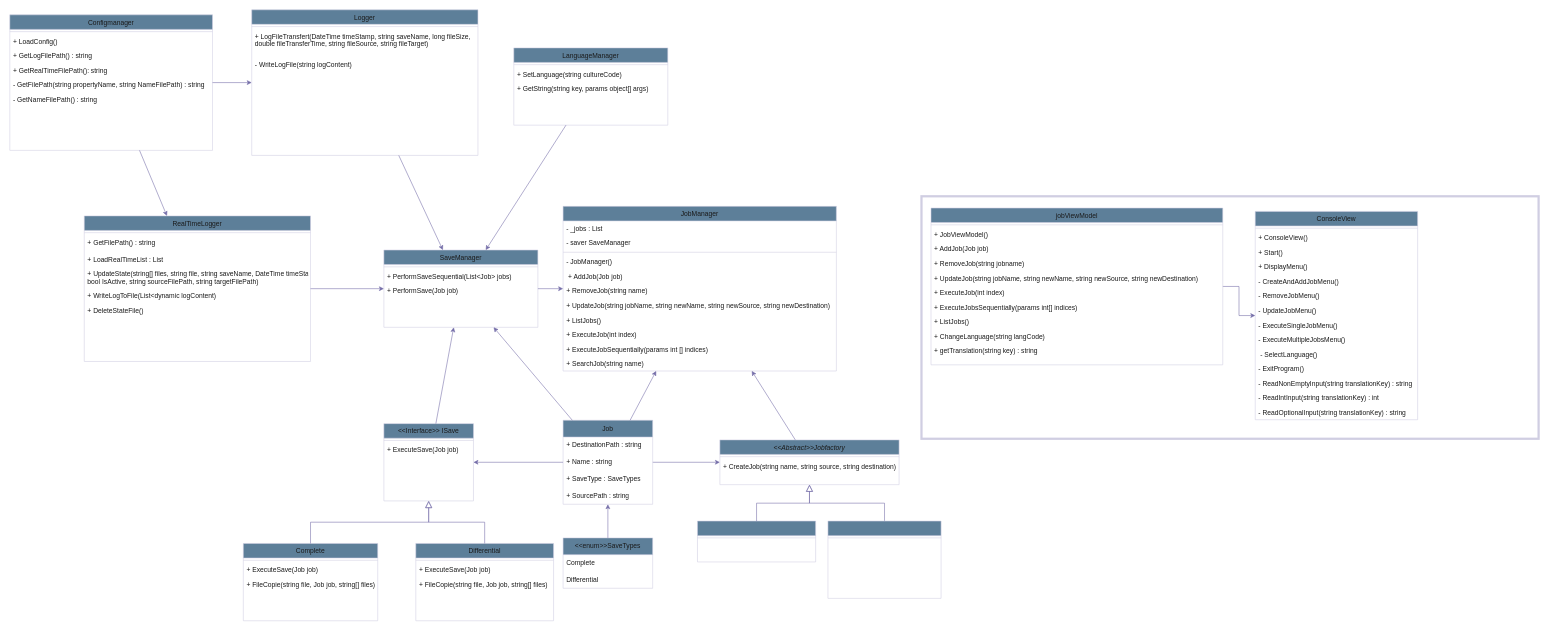
Some shapes in this 1550 by 631 pixel diagram are drawn without their labels. The centre of each missing label's shape, as x and y in pixels:
"CompleteJobFactory" goes at point (756, 541).
"DifferentialJobfactory" goes at point (884, 559).
